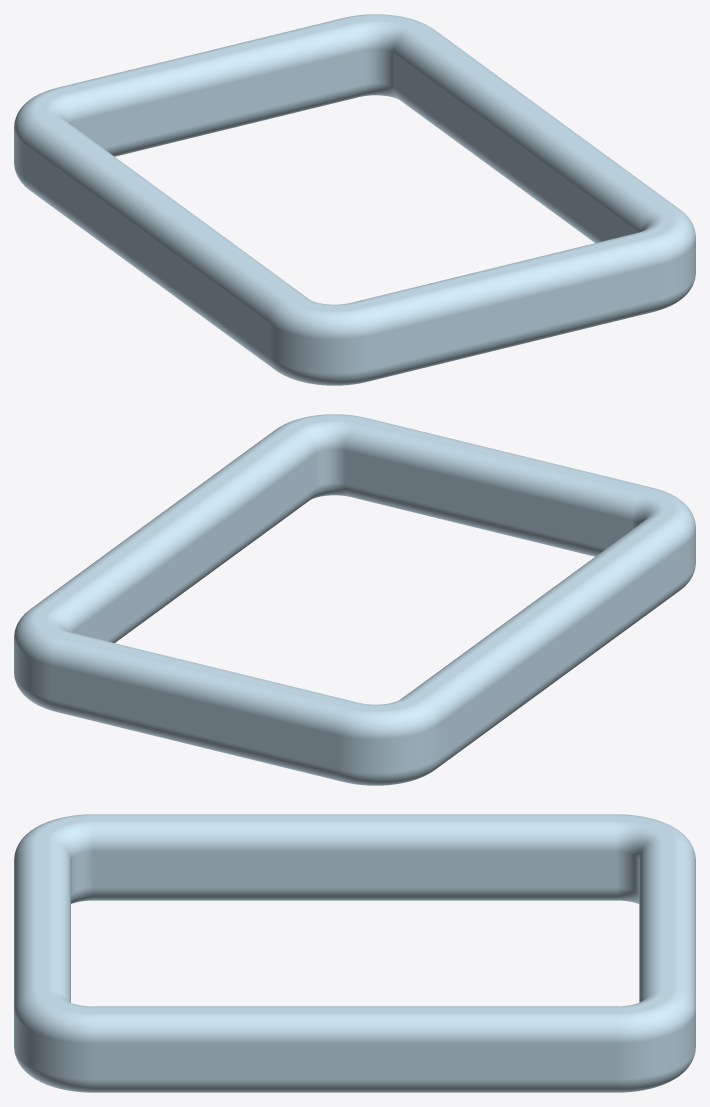
Rendered from Door_Frame.gltf.
3 renders of one model, top to bottom at view 1: azimuth 30°, elevation 25°; view 2: azimuth 150°, elevation 25°; view 3: azimuth 270°, elevation 25°, orthographic. The views are drawn at different scales.
Parts seen in each view (by area): view 1: Part 1; view 2: Part 1; view 3: Part 1.
Boxes of the visible parts, x1=… form: Part 1: x1=14, y1=14, x2=695, y2=385; Part 1: x1=14, y1=414, x2=695, y2=785; Part 1: x1=14, y1=814, x2=695, y2=1092.
Size of the model in its own units: 0.009 by 0.0015 by 0.012.
